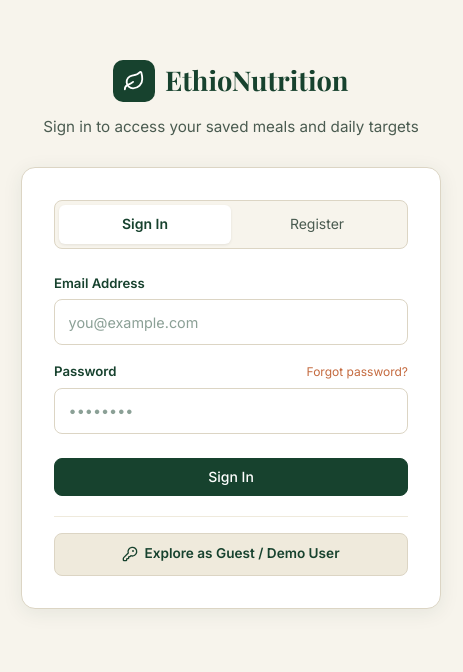
Test: Direct Authentication Flow (No Email Confirmation Required) › allows seamless switching between Sign In and Register
The image size is (463, 672).
// Click Register tab
Step 1. Click the button "Register" → (317, 224), box x1=231 y1=205 x2=403 y2=244
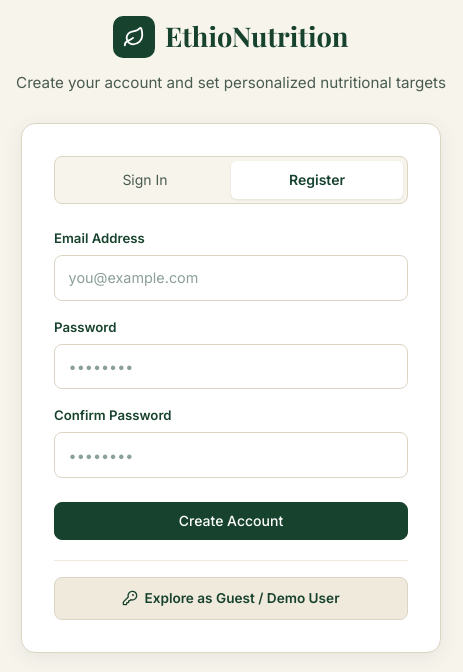
Expected: the button "Create Account" is shown, x1=54 y1=502 x2=408 y2=540
Expected: the text "Confirm Password" is shown, x1=54 y1=407 x2=172 y2=423
// Click Sign In tab
Step 2. Click the button "Sign In" → (145, 180), box x1=59 y1=161 x2=231 y2=199
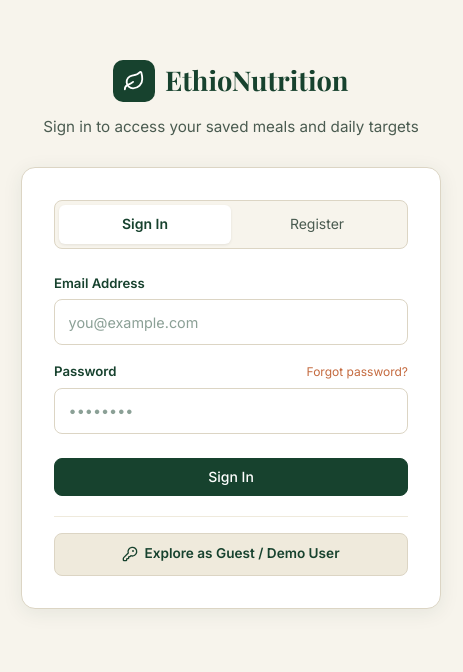
Expected: the password field with placeholder "••••••••" is shown, x1=54 y1=388 x2=408 y2=434
Expected: the text "Confirm Password" is gone
